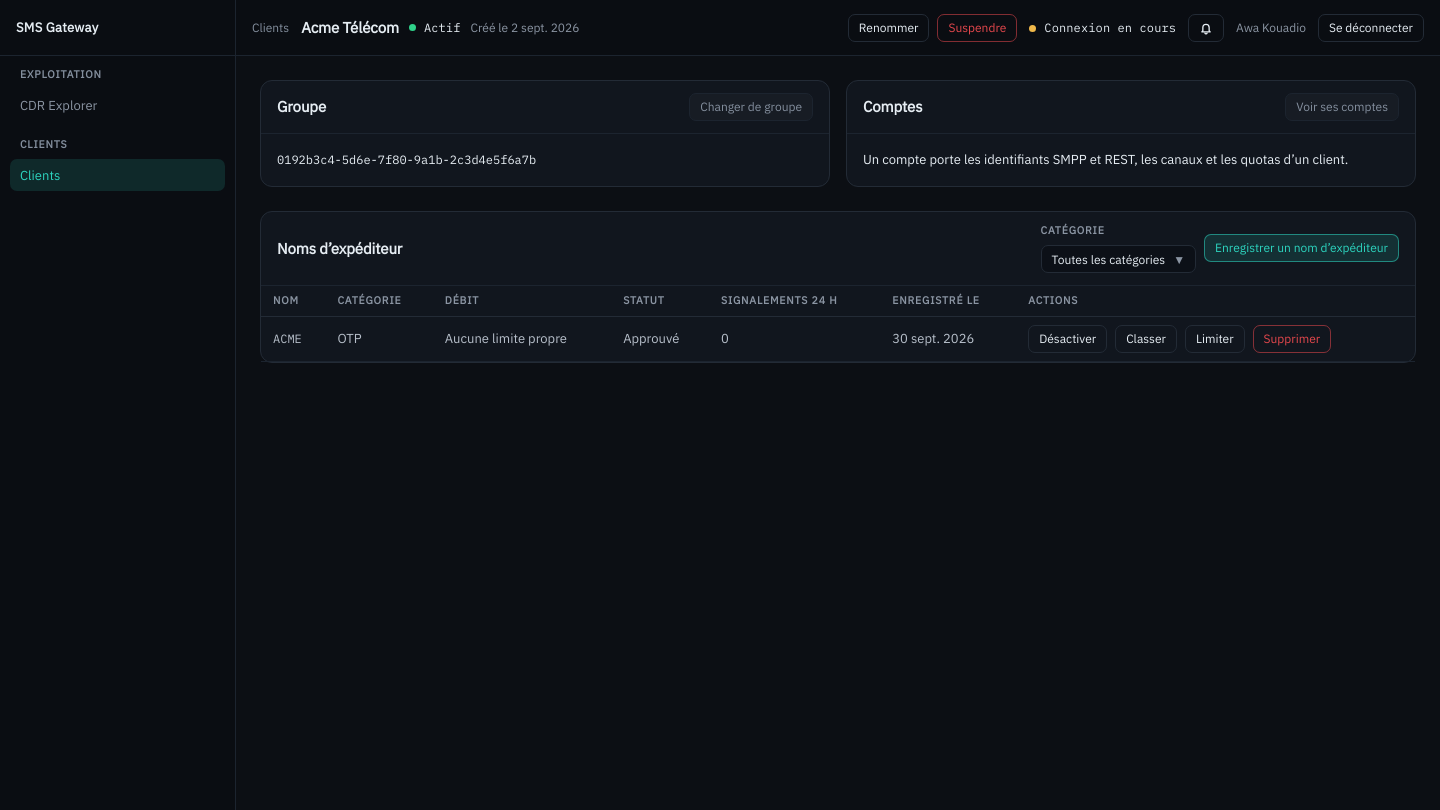
the sender IDs of a customer › says a name moved back to marketing loses its priority
Click the button with aria-label "Classer ACME" at (1146, 339), box [1115,325,1177,353]
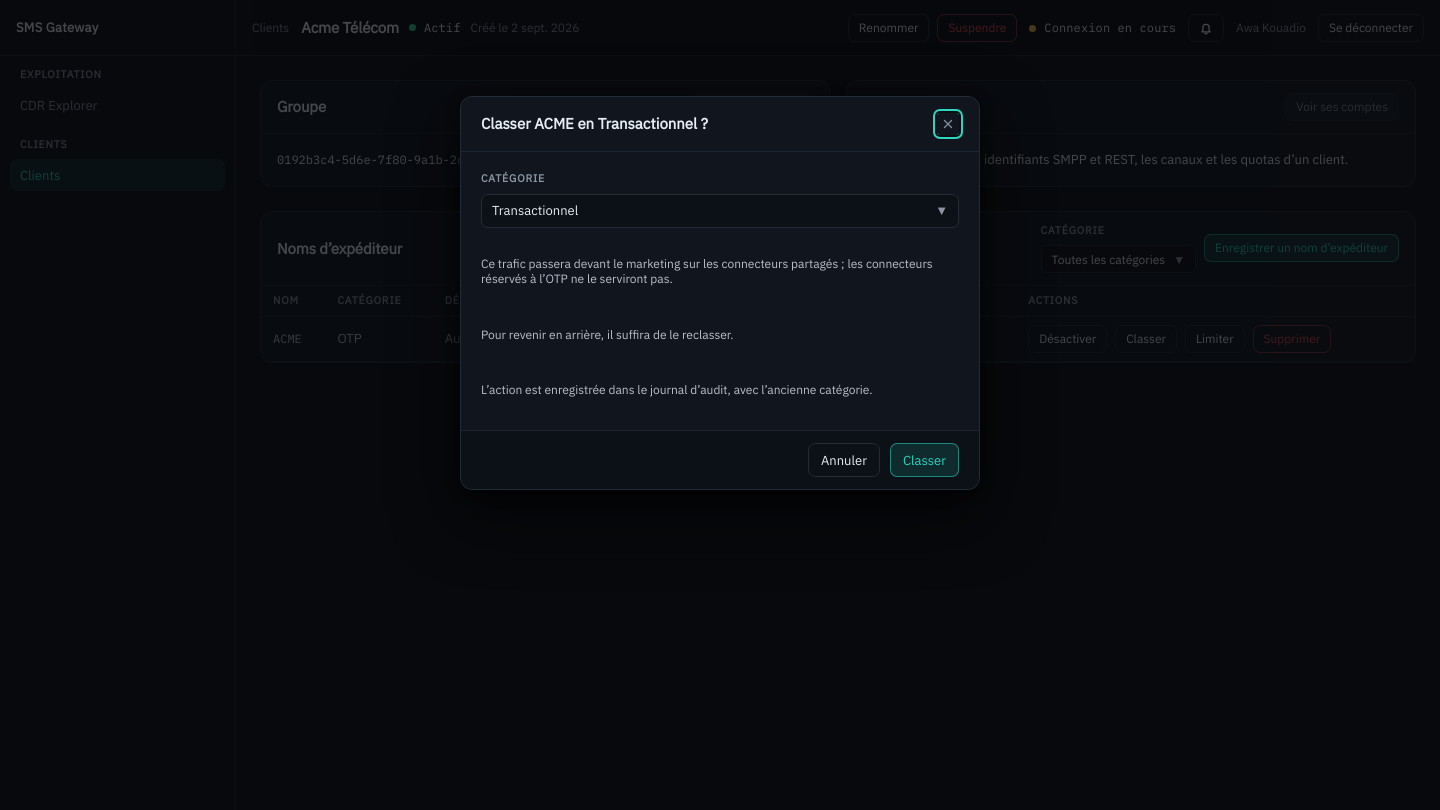
Click the dropdown named "Catégorie" at (535, 211), box [481,194,959,228]
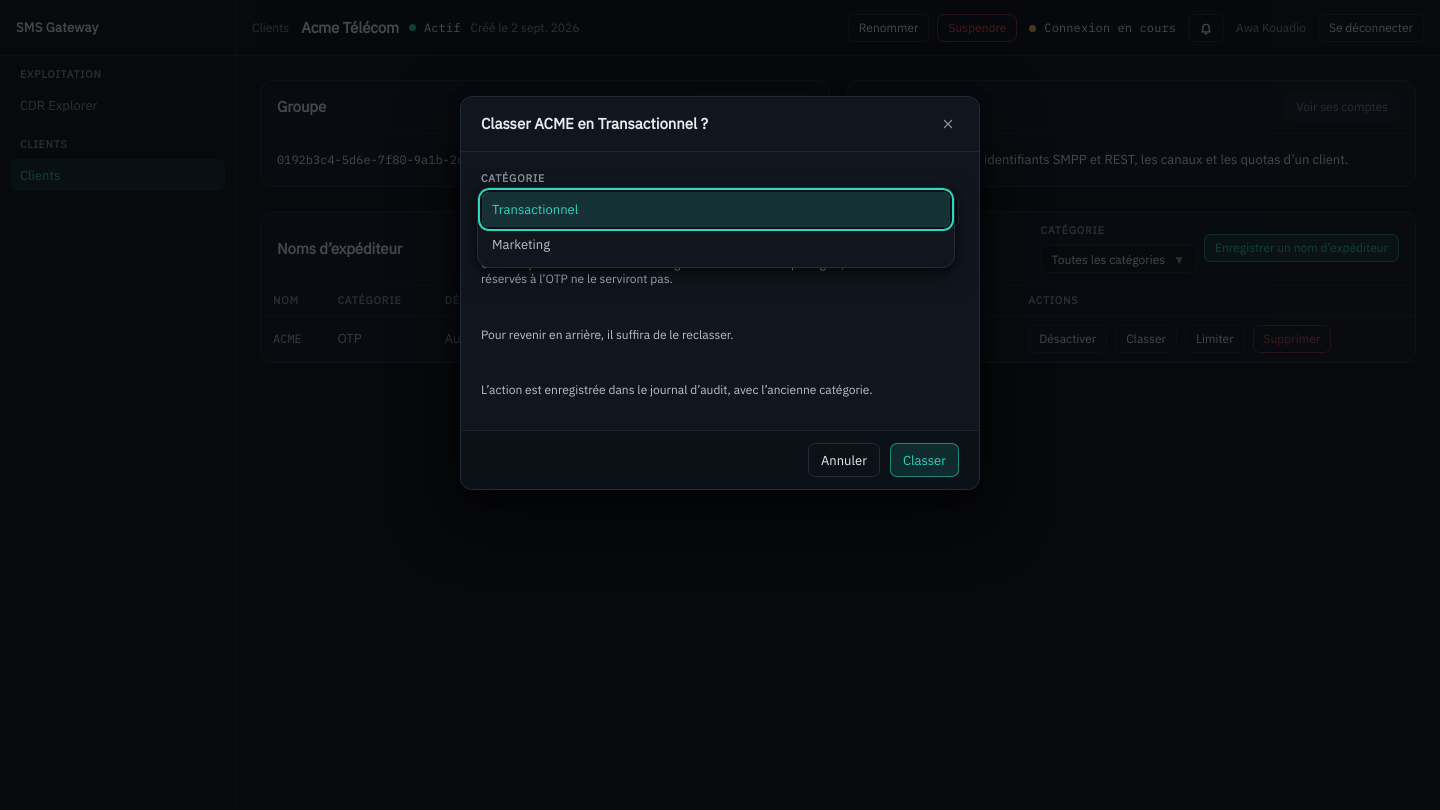
Click the option "Marketing" at (521, 245), box [492,236,550,253]
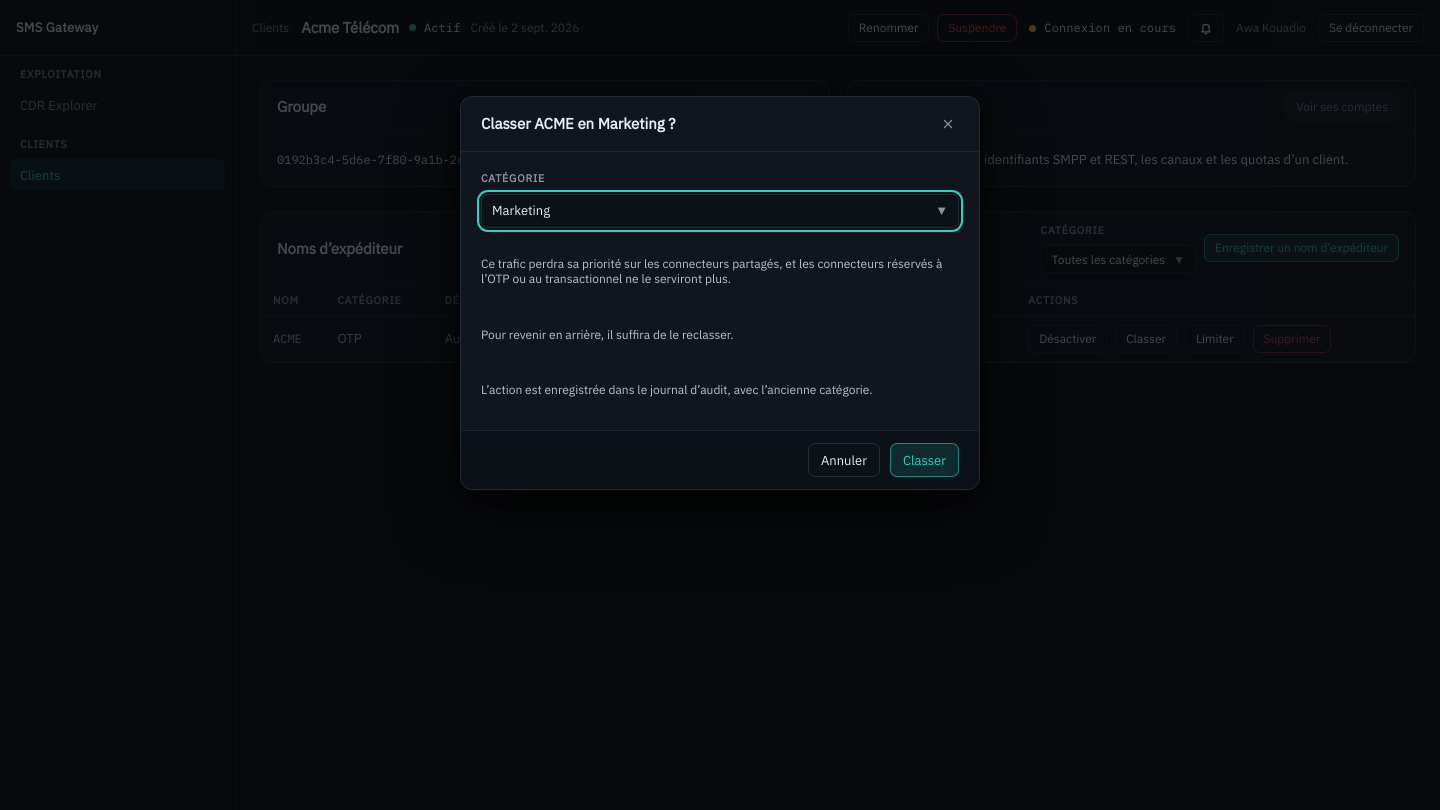
Expected: the dialog "Classer ACME en Marketing ?" shows "perdra sa priorité", [481,256,942,286]
